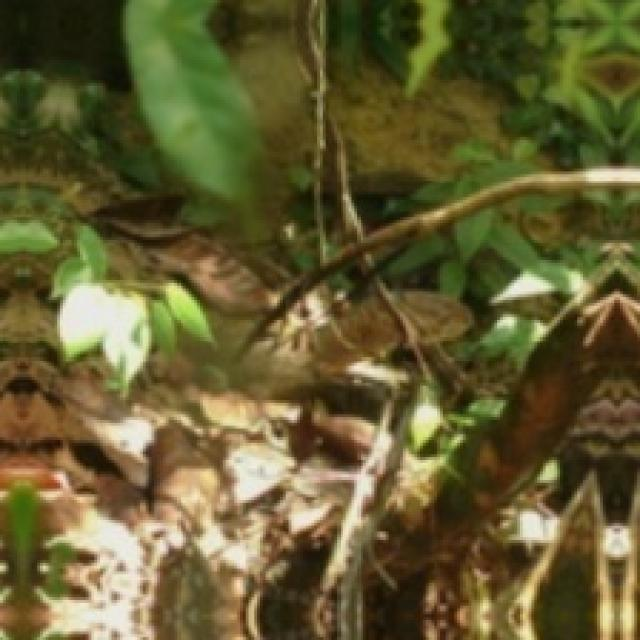king cobra: (99, 214, 278, 315), (312, 294, 405, 374), (394, 290, 472, 345)
